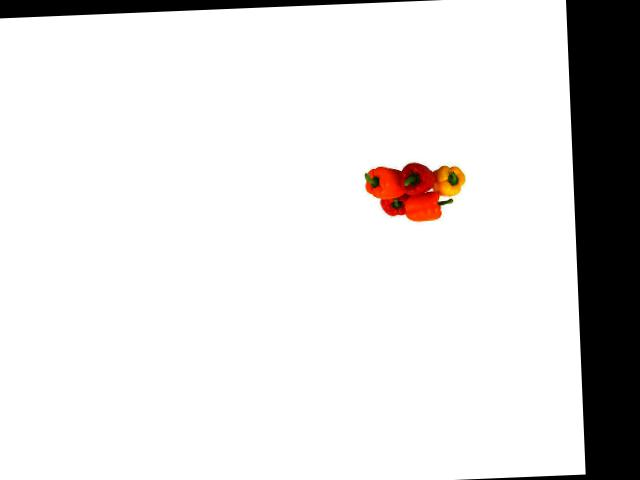bell_pepper: (355, 162, 406, 203)
